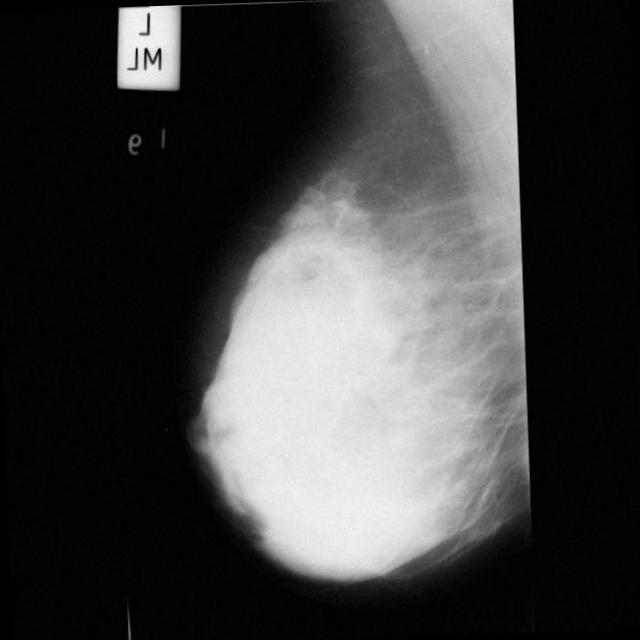ARCH: (246, 208, 326, 290)
